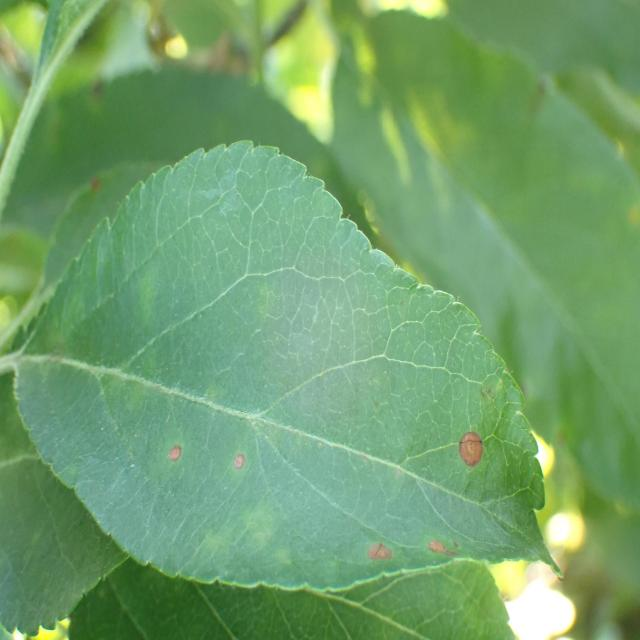frog-eye-leaf-spot: (14, 138, 565, 594)
